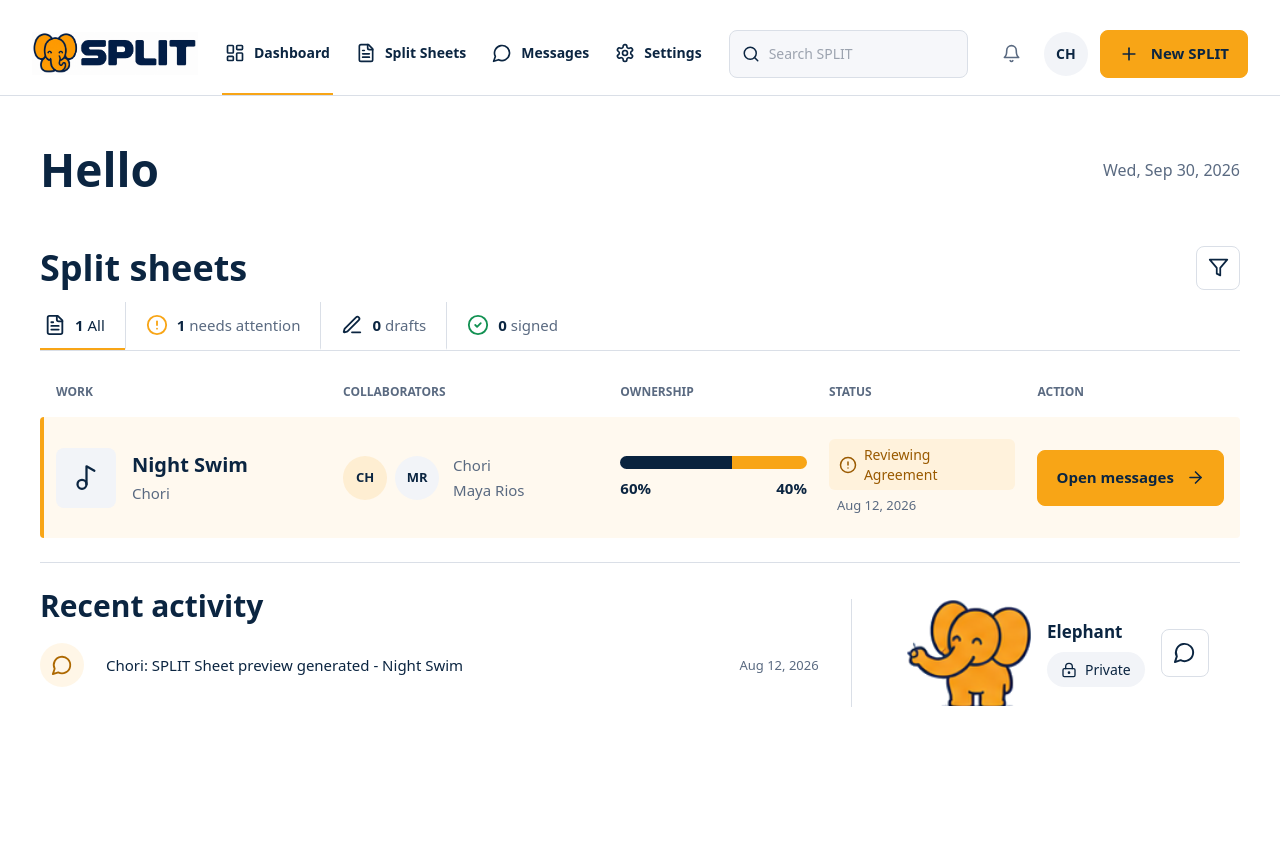
Test: dashboard workspace › opens the split detail from quick access
Click the button "Night Swim" at point(190, 464), box left=132, top=451, right=248, bottom=478
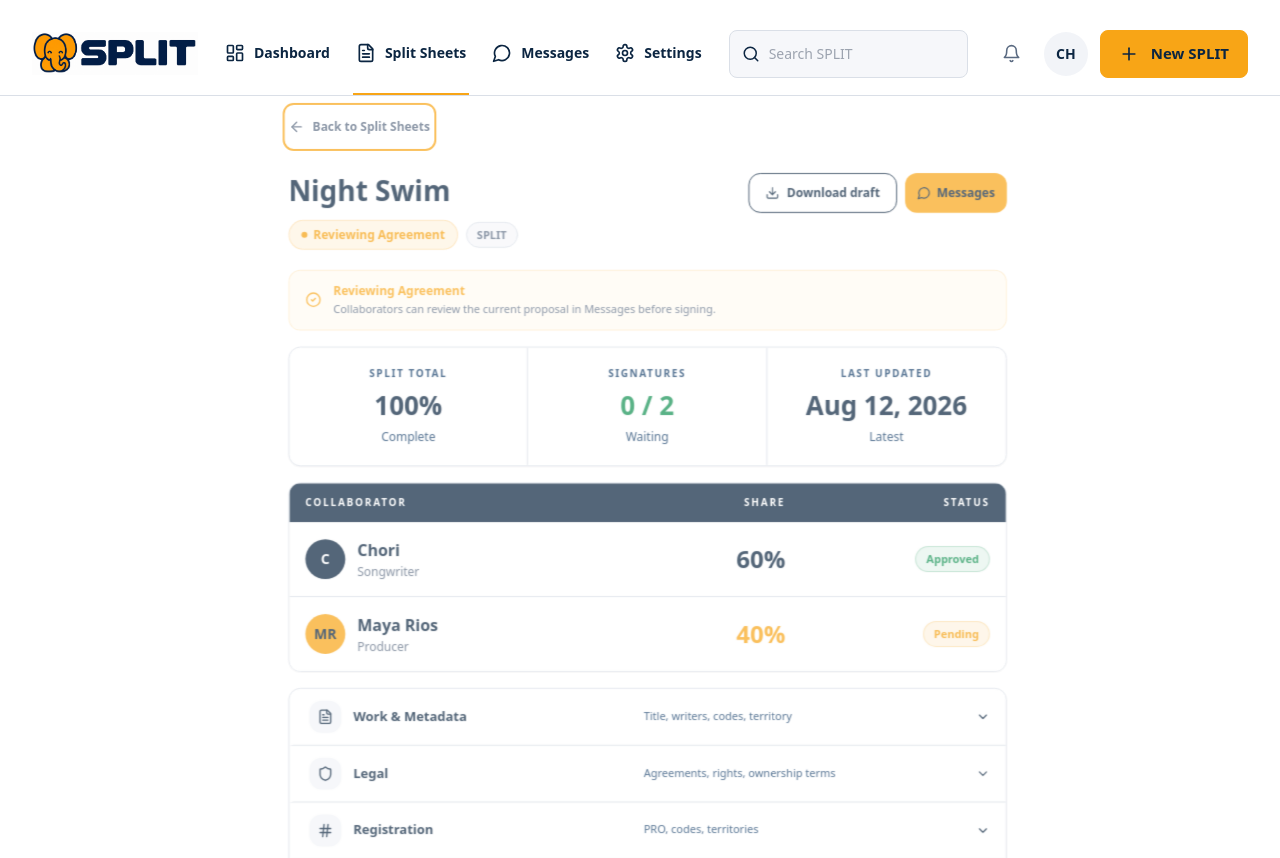
Expected: the heading "Night Swim" is shown, left=280, top=170, right=442, bottom=208
Now the text "SPLIT Total" is shown, box left=361, top=366, right=439, bottom=381
Now the text "Signatures" is shown, box left=600, top=366, right=678, bottom=381
